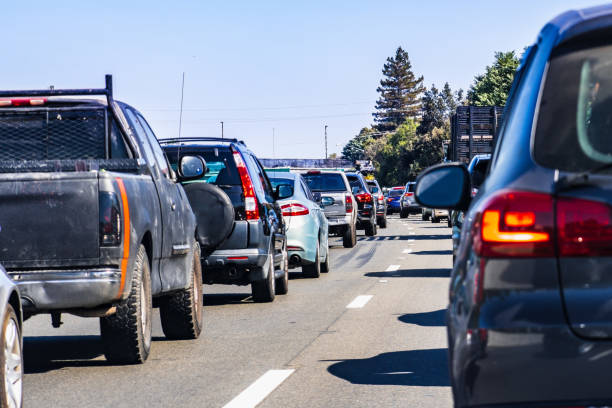car: (449, 5, 612, 408), (1, 85, 203, 365), (162, 139, 289, 296), (268, 171, 332, 280), (301, 171, 358, 252), (361, 175, 389, 232), (401, 182, 424, 222)
